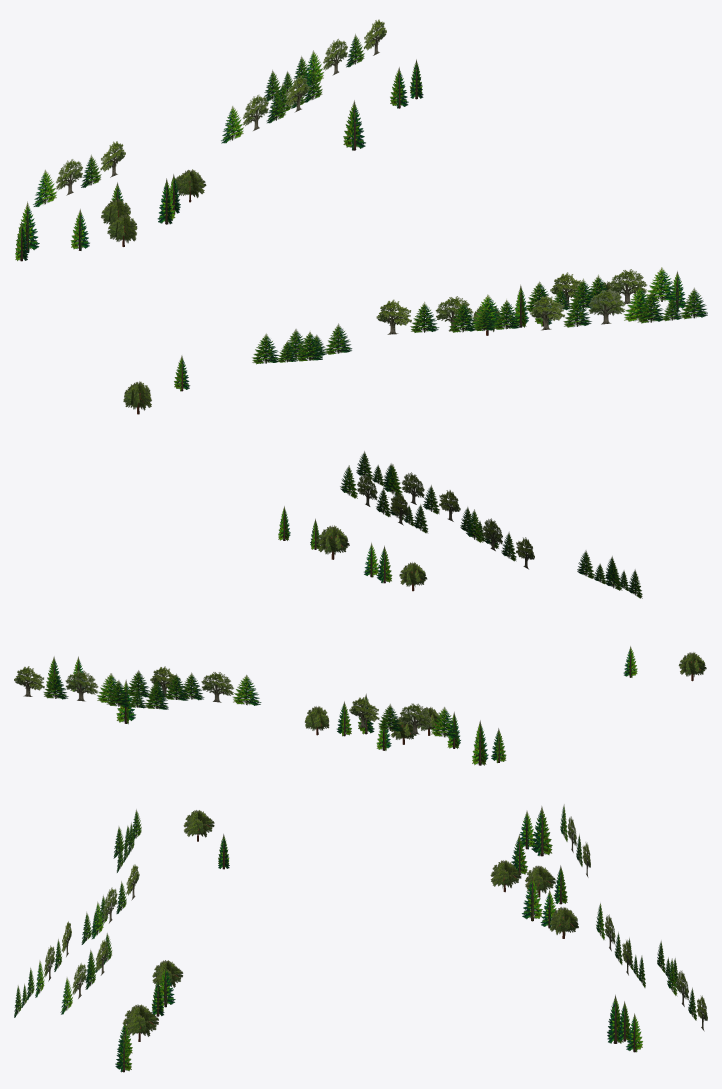
Rendered from trees.glb.
3 views of the same model, one above another, from view 1: azimuth 30°, elevation 25°; view 2: azimuth 150°, elevation 25°; view 3: azimuth 270°, elevation 25° (orthographic). The views are drawn at different scales.
Visible parts, largest first — view 1: Trees; view 2: Trees; view 3: Trees.
Boxes of the visible parts, left/top/right/bottom form: Trees: left=15, top=19, right=707, bottom=414; Trees: left=14, top=451, right=706, bottom=765; Trees: left=14, top=804, right=707, bottom=1072.
Size of the model in its own units: 342 by 52.65 by 399.
Materials: 5 (5 with a texture image).
